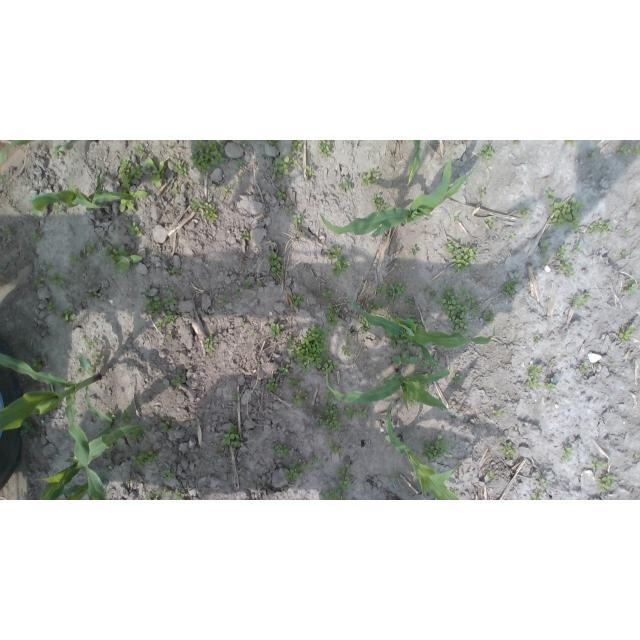Maize: (1, 353, 108, 500), (321, 157, 467, 237), (350, 300, 496, 367), (35, 422, 146, 500), (385, 400, 462, 500), (324, 366, 449, 410), (29, 171, 139, 210), (0, 140, 98, 180), (406, 140, 423, 184), (58, 480, 94, 500)
Weeds: (436, 284, 472, 336), (287, 324, 329, 362), (546, 197, 584, 232), (104, 243, 145, 273), (443, 239, 478, 274), (190, 141, 226, 172), (422, 436, 449, 463), (117, 156, 145, 181), (146, 156, 167, 188), (130, 448, 159, 471), (323, 404, 343, 431), (220, 425, 244, 447), (314, 354, 338, 374), (392, 350, 421, 366), (144, 292, 162, 317), (267, 251, 284, 277), (283, 461, 302, 484), (525, 364, 542, 388), (330, 256, 350, 276), (360, 168, 380, 188), (597, 472, 616, 493), (589, 219, 612, 236), (387, 333, 413, 348), (372, 192, 391, 212), (324, 302, 340, 324), (320, 486, 345, 500), (617, 326, 635, 345), (388, 282, 406, 301), (171, 159, 189, 177), (60, 307, 77, 326), (504, 279, 521, 298), (290, 392, 309, 409), (617, 144, 640, 158), (162, 288, 178, 308), (555, 263, 575, 279), (203, 203, 218, 224), (498, 442, 516, 459), (620, 278, 636, 297), (571, 292, 590, 308), (274, 155, 289, 175), (540, 242, 551, 269), (171, 372, 186, 391), (128, 221, 145, 237), (408, 314, 425, 330), (368, 299, 385, 315), (51, 272, 66, 290), (203, 332, 215, 354), (479, 144, 495, 160), (129, 428, 144, 445), (272, 443, 289, 458), (33, 270, 48, 286), (120, 199, 137, 213), (554, 243, 567, 261), (318, 140, 331, 158), (325, 439, 340, 454), (516, 206, 532, 220), (52, 144, 69, 157), (21, 420, 35, 435), (327, 245, 341, 260), (120, 408, 133, 424), (482, 308, 495, 324), (469, 295, 480, 313), (104, 411, 118, 425), (32, 357, 45, 372), (340, 476, 353, 491), (337, 464, 352, 477), (86, 241, 99, 256), (271, 323, 284, 338), (592, 456, 608, 468), (120, 177, 131, 194), (292, 293, 305, 307), (173, 488, 187, 501), (340, 175, 352, 190), (299, 361, 311, 376), (545, 188, 556, 204), (293, 213, 304, 229), (192, 198, 205, 211), (134, 144, 147, 157), (164, 310, 176, 324), (69, 254, 80, 269), (97, 470, 109, 483), (46, 302, 58, 315), (266, 380, 278, 393), (162, 469, 175, 481), (344, 406, 356, 419), (561, 446, 573, 459), (290, 140, 302, 153), (160, 420, 170, 435), (170, 183, 180, 198), (492, 408, 504, 420), (376, 284, 388, 296), (130, 190, 148, 198), (279, 364, 291, 376), (325, 388, 336, 401), (168, 265, 181, 276), (155, 318, 165, 332), (288, 377, 300, 388), (531, 488, 542, 500), (218, 295, 230, 306), (579, 362, 589, 375), (277, 188, 287, 201), (146, 492, 160, 501), (544, 381, 556, 391), (313, 416, 323, 428), (74, 366, 87, 375), (240, 230, 250, 241), (573, 244, 584, 254), (33, 209, 44, 219), (540, 476, 549, 488), (454, 372, 463, 384), (321, 290, 334, 298), (54, 203, 64, 213), (161, 486, 171, 496), (328, 326, 337, 337), (306, 166, 315, 177), (484, 469, 494, 478), (86, 340, 96, 349), (342, 346, 351, 356), (533, 334, 543, 343), (32, 232, 41, 242), (284, 205, 292, 216), (143, 285, 151, 296), (408, 297, 416, 308), (486, 219, 495, 228), (302, 463, 311, 472), (365, 323, 374, 332), (289, 156, 298, 165), (360, 409, 369, 418), (432, 358, 441, 367), (587, 152, 597, 160), (223, 185, 231, 195), (420, 383, 431, 390), (243, 278, 249, 290), (411, 247, 419, 256), (344, 335, 352, 344), (392, 316, 401, 324), (166, 330, 174, 339), (419, 361, 429, 368), (265, 141, 279, 146), (507, 235, 517, 242), (241, 316, 248, 326), (565, 141, 575, 148), (92, 351, 99, 361), (6, 227, 14, 235), (237, 171, 245, 179), (312, 456, 320, 464), (236, 160, 244, 168), (621, 252, 628, 261), (215, 449, 222, 458), (125, 476, 133, 483), (610, 359, 616, 368), (89, 364, 96, 371), (250, 332, 257, 339), (359, 316, 365, 324), (327, 380, 333, 388), (168, 142, 176, 148), (235, 287, 241, 294), (453, 215, 459, 222), (429, 290, 435, 297), (623, 230, 630, 236), (46, 263, 52, 270), (480, 191, 486, 197), (513, 140, 520, 145), (87, 292, 93, 297), (349, 383, 354, 389), (241, 140, 248, 144), (386, 316, 393, 320), (108, 453, 112, 460), (633, 456, 638, 461), (232, 396, 237, 401), (44, 208, 49, 213), (255, 284, 261, 288), (423, 372, 428, 376), (241, 392, 244, 397)
